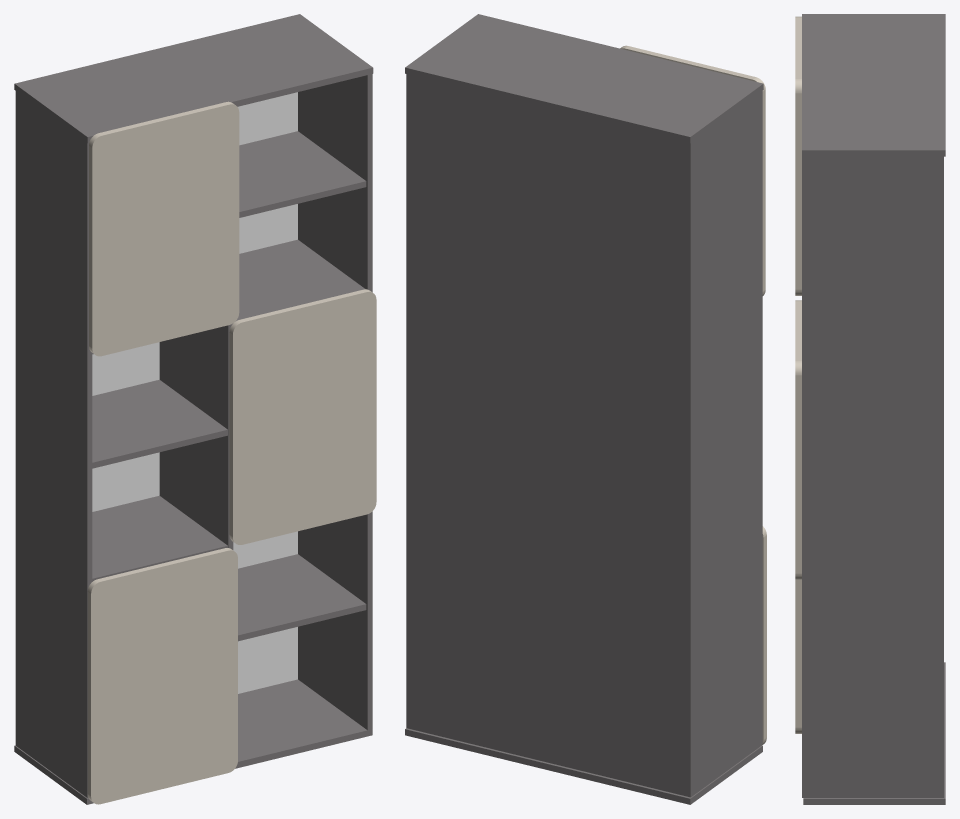
The model's file is 2pir_regal_z_drzwiami.obj.
3 renders of one model, left to right at view 1: azimuth 30°, elevation 25°; view 2: azimuth 150°, elevation 25°; view 3: azimuth 270°, elevation 25°, orthographic. The views are drawn at different scales.
Visible parts, largest first — view 1: Object002, Rectangle13, Rectangle15, Rectangle14, Object001, Box10, Line01, Box11, Box02, Box14, Box12, Box15 (+2 smaller); view 2: Line01, Object002, Box10, Box02, Rectangle15, Rectangle13; view 3: Object001, Box10, Rectangle14, Rectangle15, Box02, Rectangle13.
Boxes of the visible parts, x1,y1,x2,y2 form: Object002: (15, 91, 92, 797); Rectangle13: (87, 548, 237, 804); Rectangle15: (89, 101, 239, 356); Rectangle14: (229, 289, 376, 544); Object001: (298, 74, 372, 730); Box10: (14, 14, 373, 143); Line01: (92, 92, 297, 693); Box11: (159, 323, 233, 549); Box02: (14, 679, 372, 804); Box14: (92, 379, 227, 468); Box12: (238, 554, 366, 641); Box15: (92, 495, 227, 581); Line01: (406, 74, 690, 797); Object002: (690, 90, 762, 796); Box10: (405, 14, 763, 143); Box02: (405, 728, 762, 804); Rectangle15: (620, 45, 765, 295); Rectangle13: (762, 526, 766, 744); Object001: (802, 156, 943, 797); Box10: (802, 14, 945, 156); Rectangle14: (795, 300, 801, 579); Rectangle15: (795, 16, 801, 295); Box02: (803, 662, 945, 804); Rectangle13: (795, 580, 801, 733).
Size of the model in its own units: 96.89 by 217 by 45.02.
